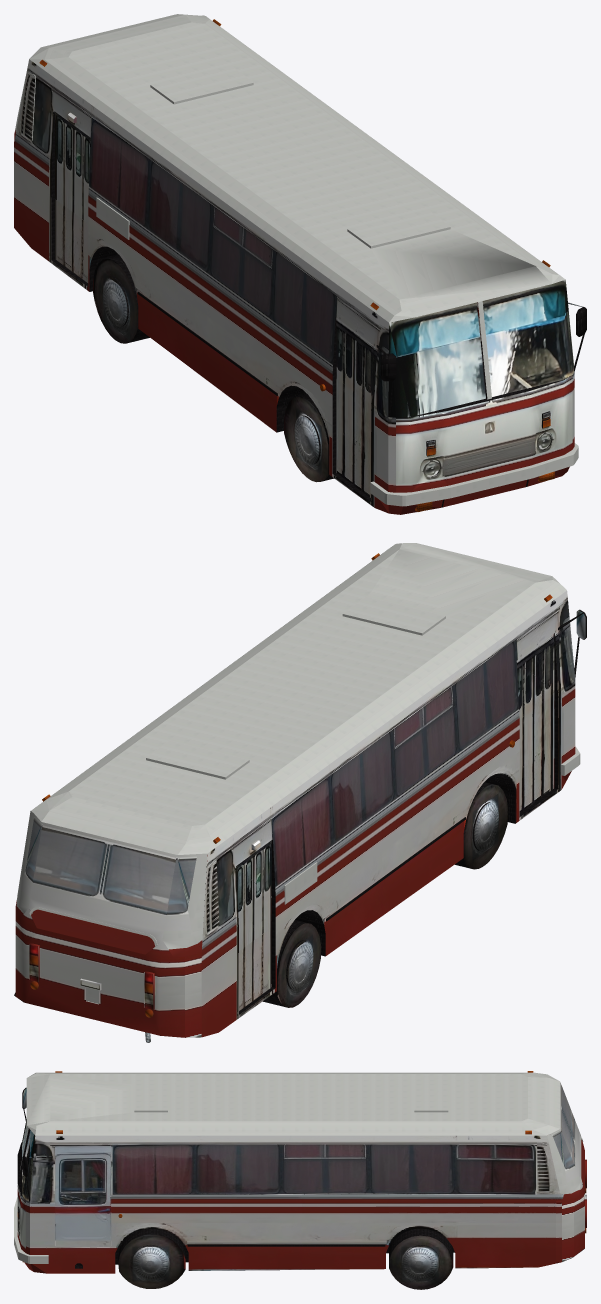
Rendered from bus_laz_695.obj.
3 renders of one model, top to bottom at view 1: azimuth 30°, elevation 25°; view 2: azimuth 150°, elevation 25°; view 3: azimuth 270°, elevation 25°, orthographic. The views are drawn at different scales.
Parts seen in each view (by area): view 1: bus_laz_695_n; view 2: bus_laz_695_n; view 3: bus_laz_695_n.
Boxes of the visible parts, x1,y1,x2,y2 form: bus_laz_695_n: (14, 14, 586, 514); bus_laz_695_n: (14, 543, 586, 1042); bus_laz_695_n: (14, 1071, 586, 1289).
Size of the model in its own units: 2.76 by 2.93 by 9.36.
6 materials, 6 textured.
